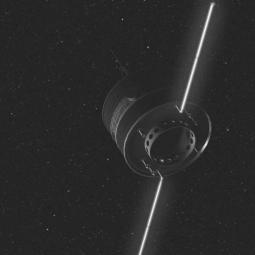double_start: (86, 47, 235, 198)
